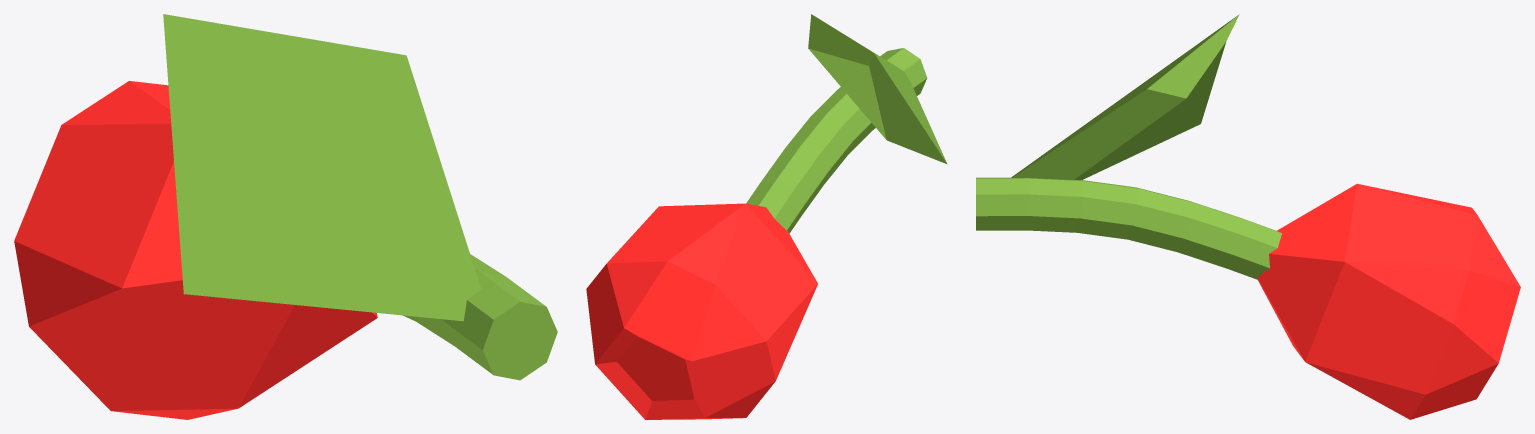
Rendered from Flower_3.fbx.
3 renders of one model, left to right at view 1: azimuth 30°, elevation 25°; view 2: azimuth 150°, elevation 25°; view 3: azimuth 270°, elevation 25°, orthographic. The views are drawn at different scales.
Parts seen in each view (by area): view 1: Flower_3; view 2: Flower_3; view 3: Flower_3.
Part boxes in pixels (left/top/right/bottom): Flower_3: left=14, top=14, right=557, bottom=419; Flower_3: left=586, top=14, right=947, bottom=419; Flower_3: left=976, top=14, right=1520, bottom=419.
Size of the model in its own units: 139 by 205 by 291.
